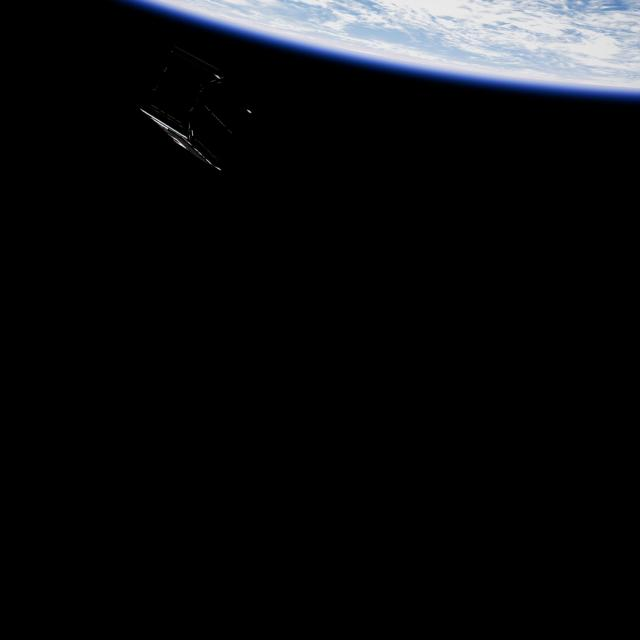medium_debris: (132, 47, 259, 175)
